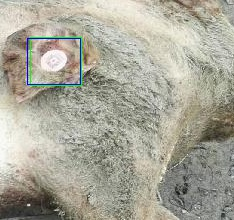text: (30, 37, 81, 85)
